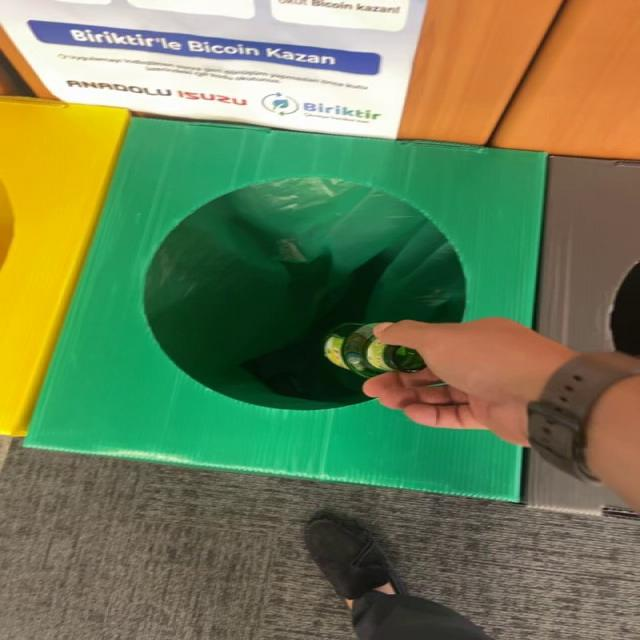glass: (324, 324, 427, 378)
